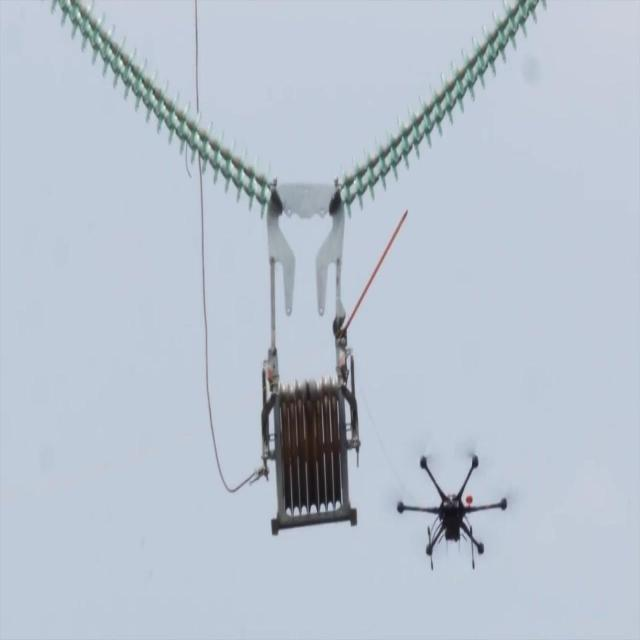drone: (397, 452, 509, 572)
